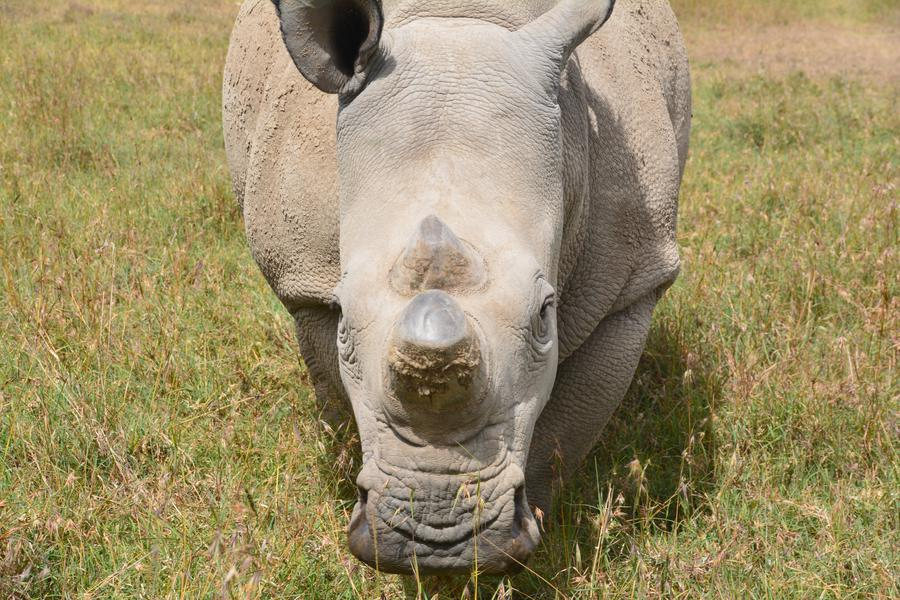rhino: (238, 14, 732, 555)
